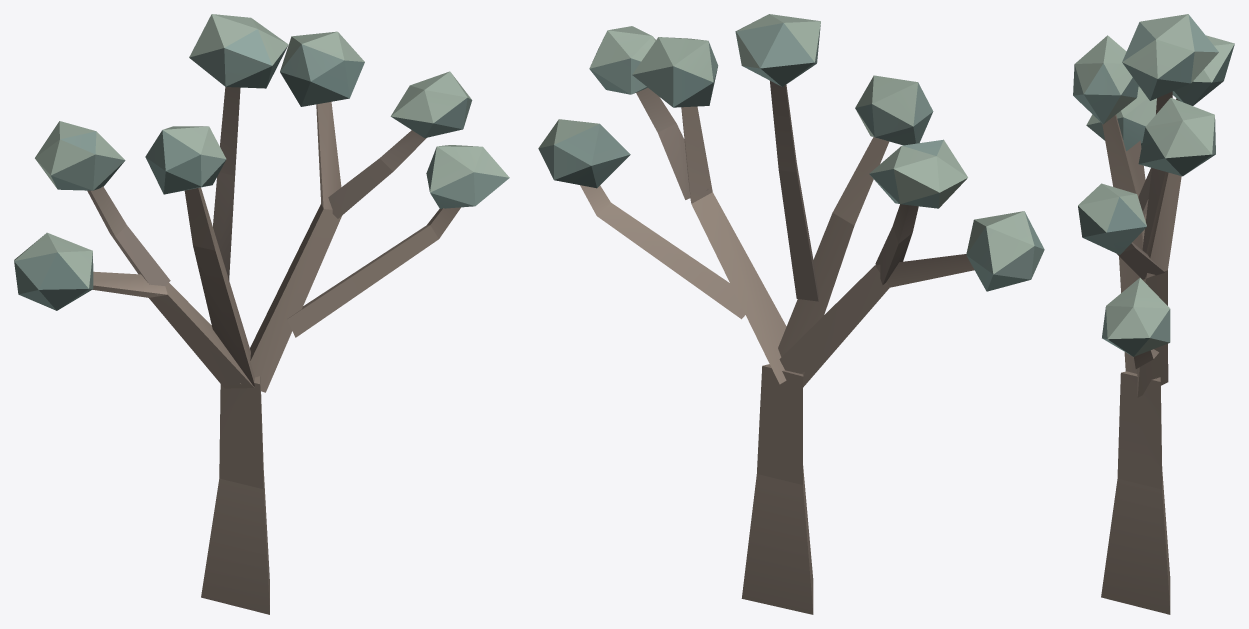
The model's file is joshua.lod2.glb.
3 views of the same model, side by side, from view 1: azimuth 30°, elevation 25°; view 2: azimuth 150°, elevation 25°; view 3: azimuth 270°, elevation 25° (orthographic). The views are drawn at different scales.
Bounding box in the file's own units: 5.03 × 5.77 × 1.47.
